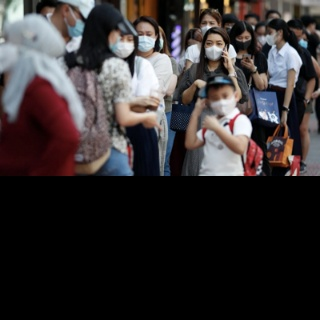with_mask: (66, 8, 87, 39), (209, 92, 235, 116), (114, 35, 135, 58), (204, 39, 226, 60), (136, 29, 156, 52), (200, 20, 219, 36), (235, 34, 252, 50), (267, 30, 280, 45), (256, 32, 268, 45), (299, 37, 308, 48)
